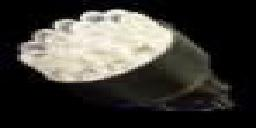LED: (17, 10, 176, 82)
